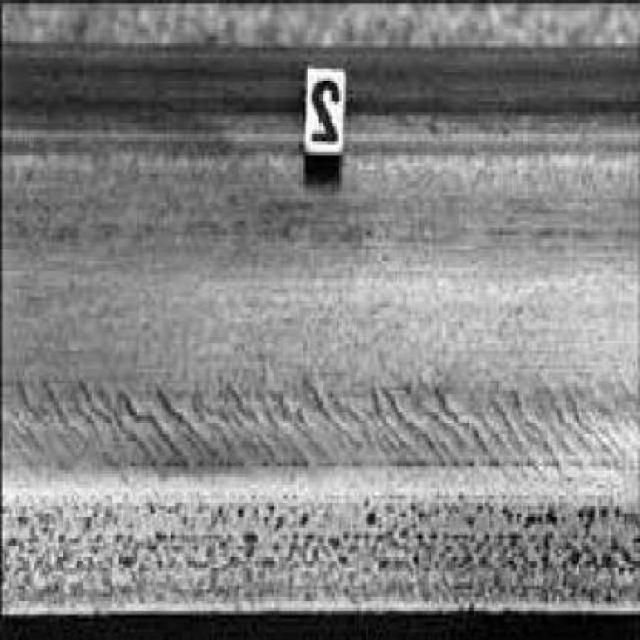defective: (2, 26, 640, 629)
